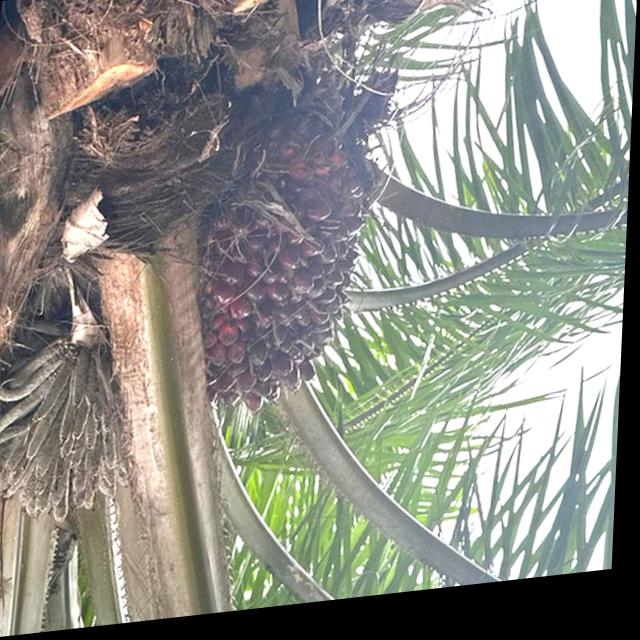ripe: (179, 126, 394, 438)
